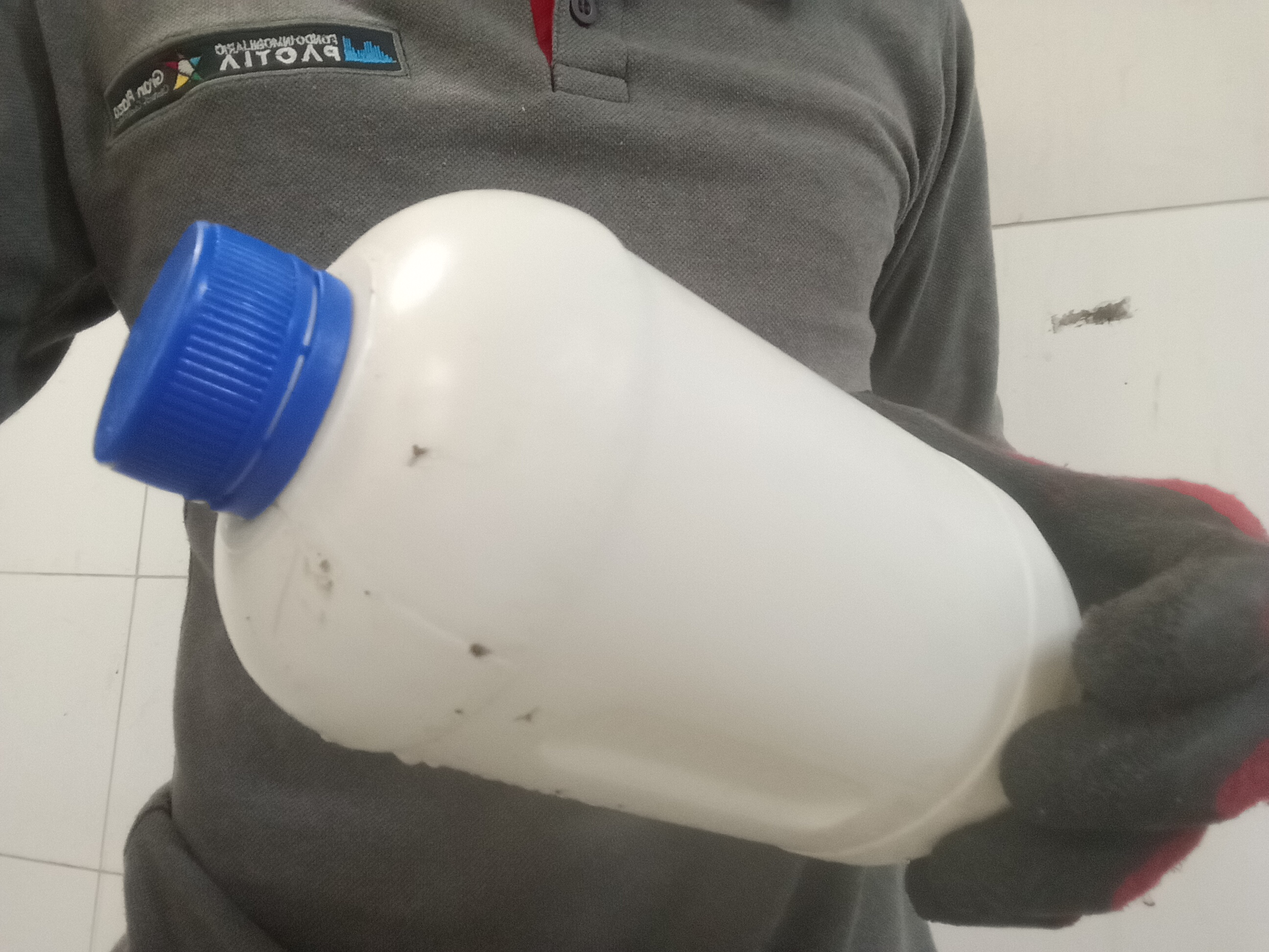Plastico: (92, 187, 1082, 864)
